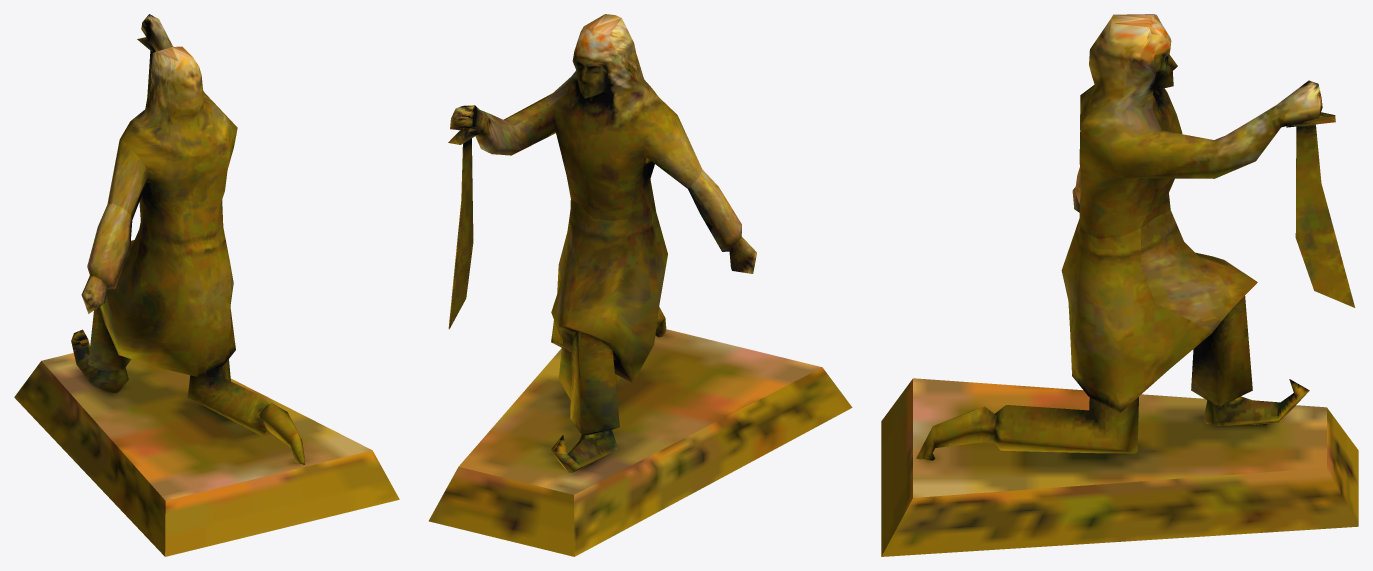
Rendered from arabic_statue_gold.dae.
3 renders of one model, left to right at view 1: azimuth 30°, elevation 25°; view 2: azimuth 150°, elevation 25°; view 3: azimuth 270°, elevation 25°, orthographic. The views are drawn at different scales.
Visible parts, largest first — view 1: polySurface5; view 2: polySurface5; view 3: polySurface5.
Boxes of the visible parts, bbox=[...] form: polySurface5: bbox=[14, 14, 399, 556]; polySurface5: bbox=[429, 14, 852, 556]; polySurface5: bbox=[881, 14, 1358, 556].
Size of the model in its own units: 0.1785 by 0.2892 by 0.2651.
Materials: 1 (1 with a texture image).
